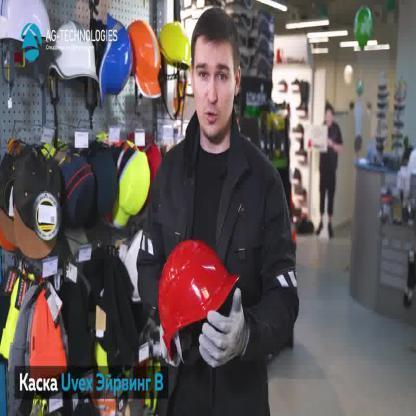gloves: (198, 286, 246, 368)
helmet: (157, 238, 242, 364), (98, 8, 134, 113), (47, 19, 102, 86), (126, 19, 164, 101), (0, 0, 57, 48), (158, 19, 194, 71)
